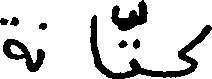X: (180, 20, 211, 78), (0, 12, 26, 70), (90, 10, 102, 78), (131, 0, 138, 78), (38, 18, 43, 74)
